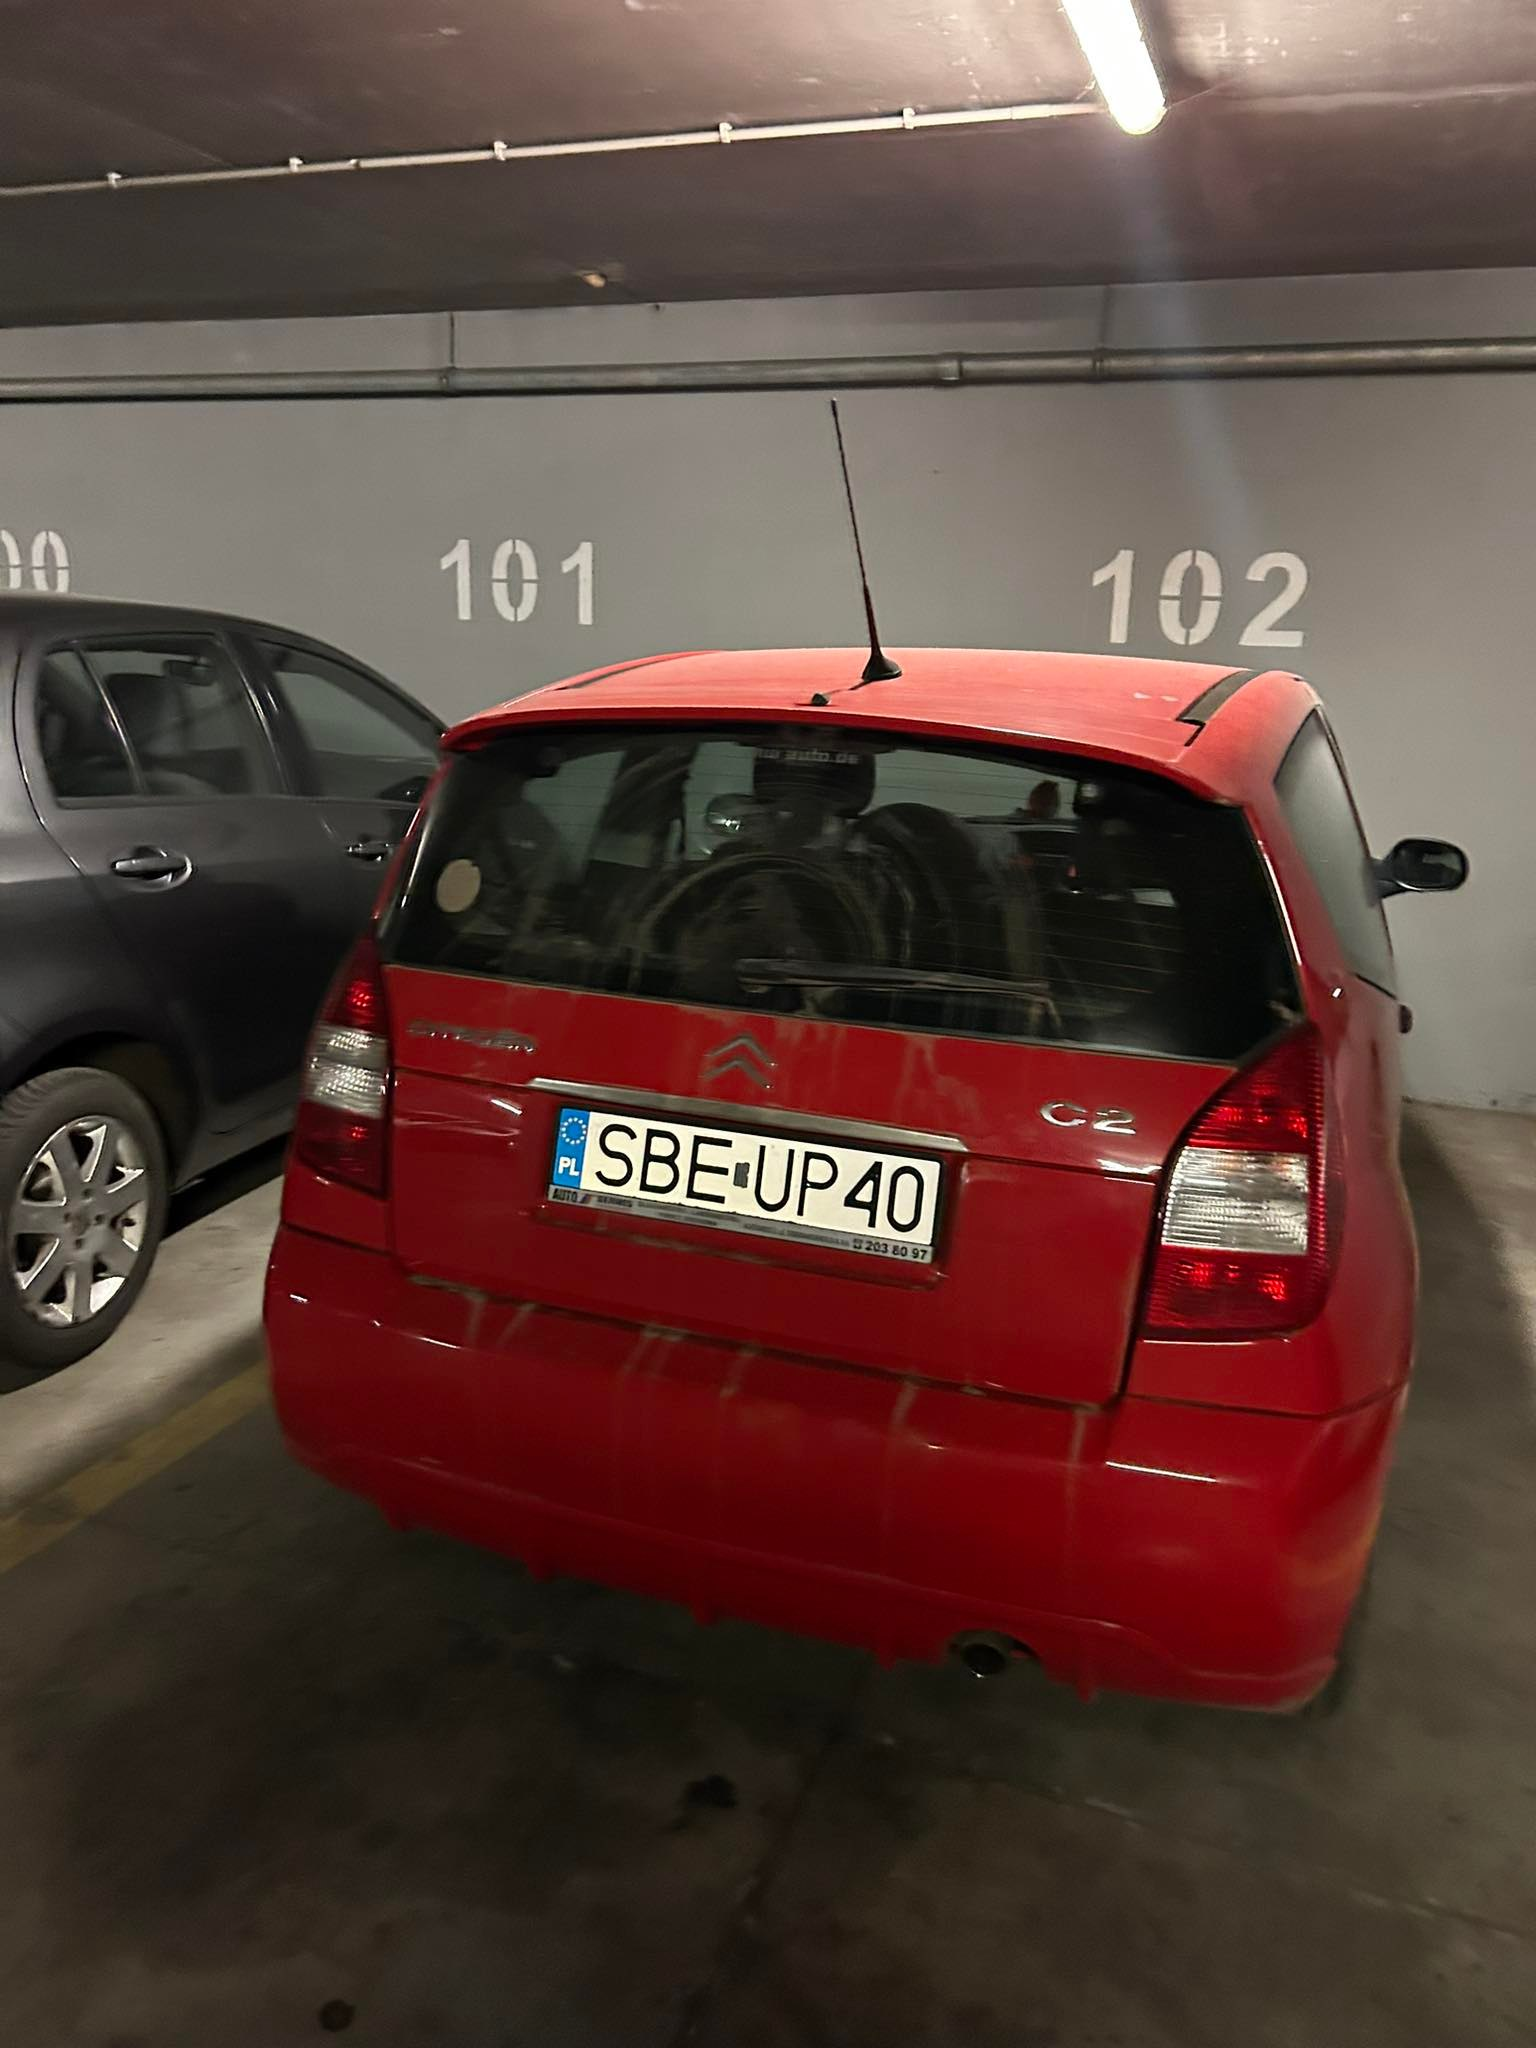number_plate: (550, 1099, 943, 1265)
